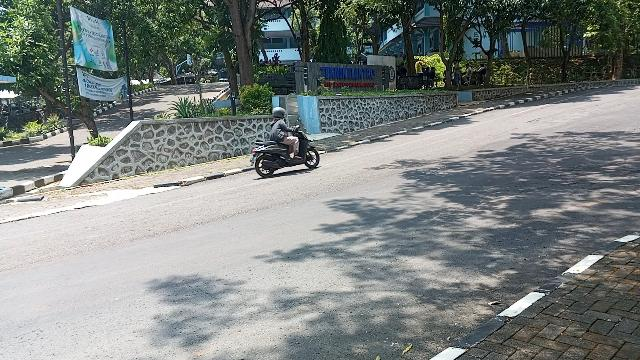helm: (274, 109, 287, 120)
motor: (252, 127, 321, 178)
